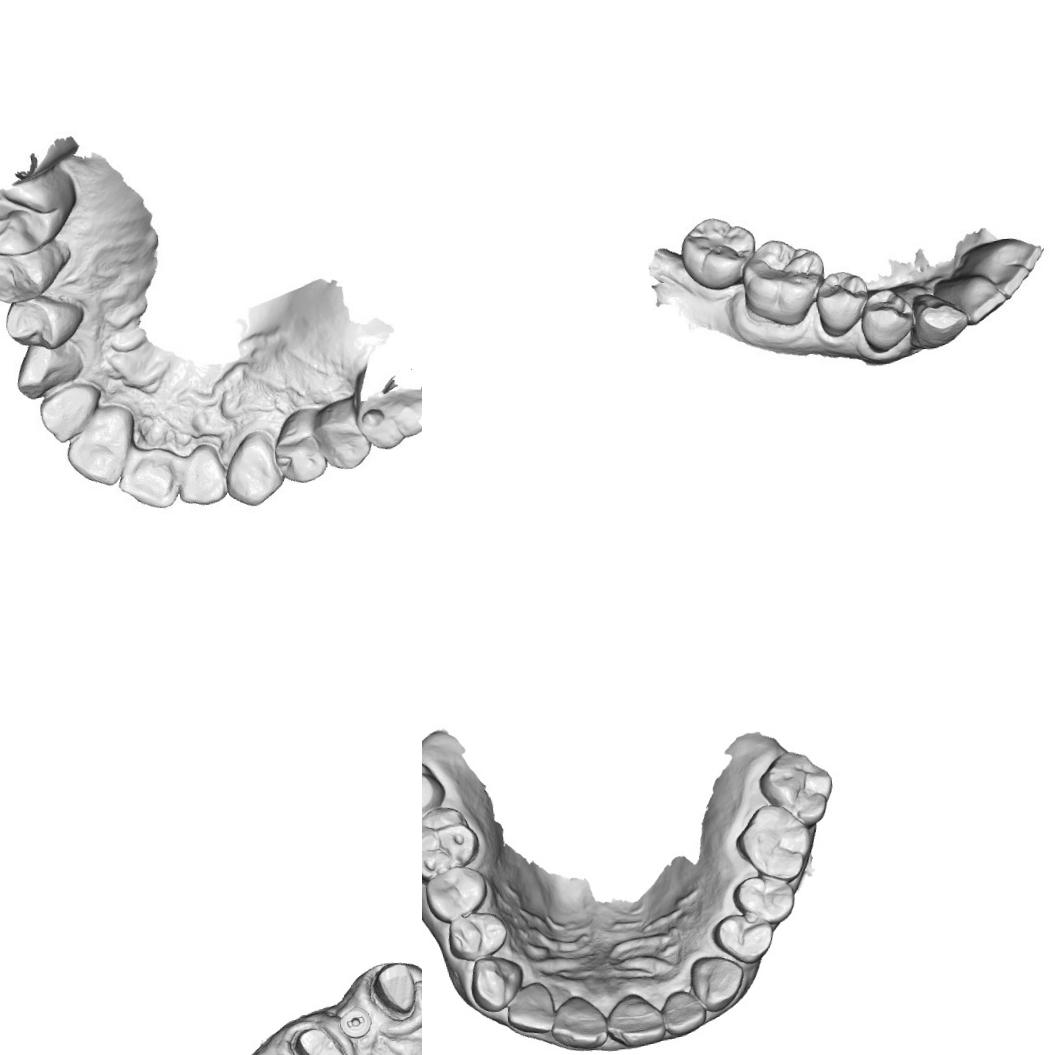canine: (220, 428, 283, 510), (902, 287, 970, 355), (14, 339, 82, 402), (466, 952, 528, 1016), (687, 951, 748, 1014)
crown: (370, 959, 422, 1020), (293, 1022, 349, 1055)
implant_minus: (335, 1003, 376, 1041)
incisor: (60, 406, 138, 494), (112, 446, 182, 514), (934, 268, 1004, 328), (602, 990, 668, 1052), (547, 992, 610, 1054), (177, 439, 230, 508), (502, 978, 560, 1038), (970, 247, 1030, 304), (40, 388, 99, 445), (659, 986, 710, 1040)
molar: (730, 799, 816, 887), (742, 236, 825, 326), (755, 746, 838, 832), (676, 212, 757, 295), (0, 164, 72, 253), (422, 802, 484, 886), (422, 754, 451, 844)
premolar: (0, 289, 93, 355), (0, 235, 71, 305), (808, 263, 868, 341), (316, 391, 373, 473), (422, 862, 491, 926), (274, 408, 330, 486), (710, 908, 778, 969), (854, 290, 916, 356), (444, 906, 511, 964), (730, 872, 798, 928)
